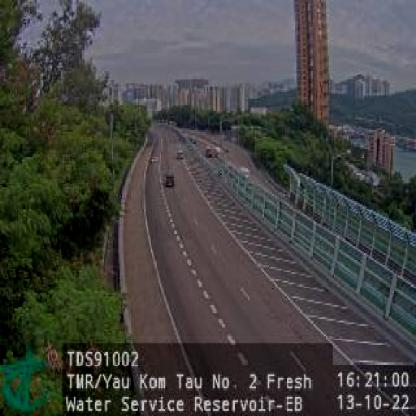Car: (163, 173, 175, 190)
